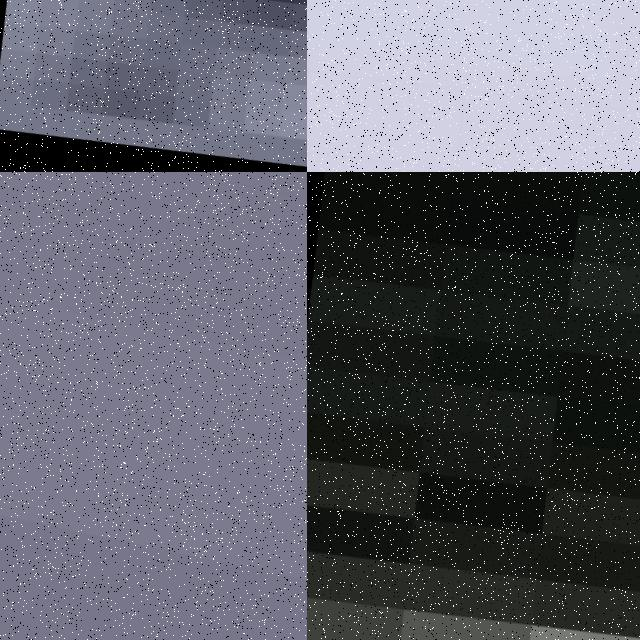0: (307, 0, 640, 172), (0, 0, 307, 172)
drone: (307, 172, 640, 640)
